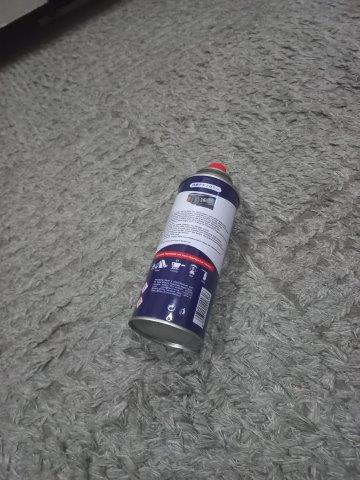kaleng: (127, 160, 239, 353)
